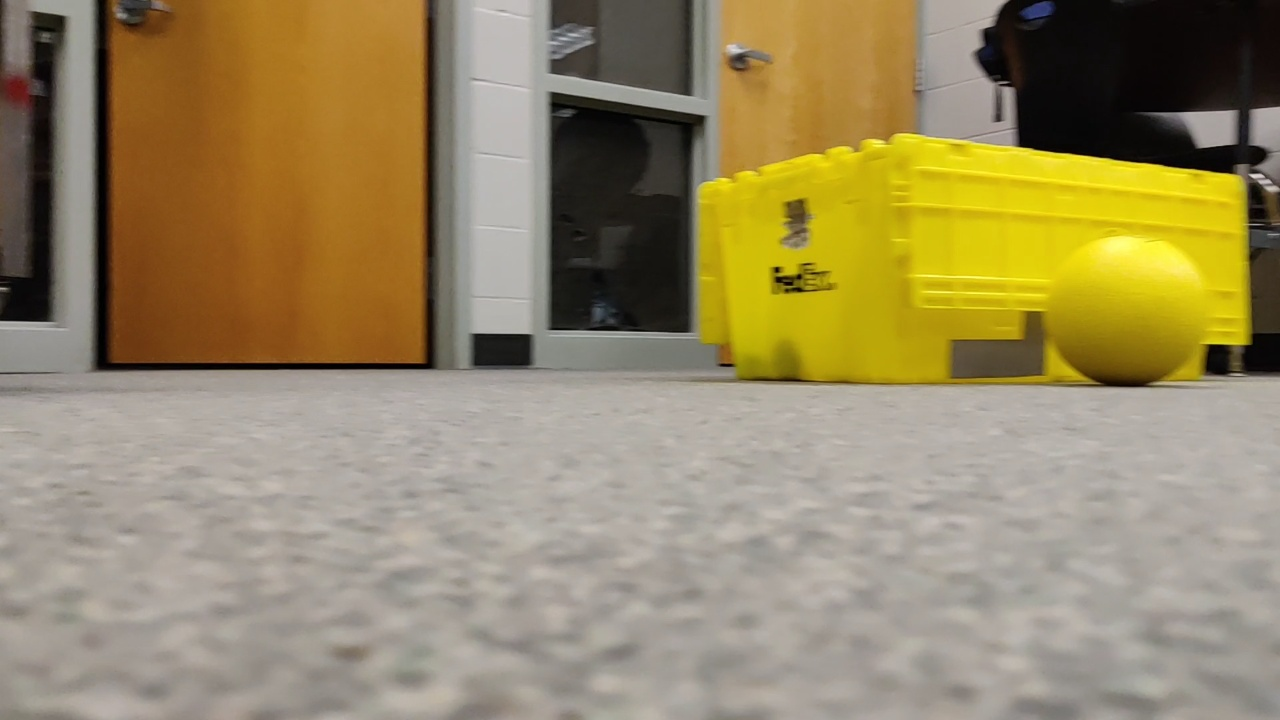Ball: (1048, 230, 1225, 392)
